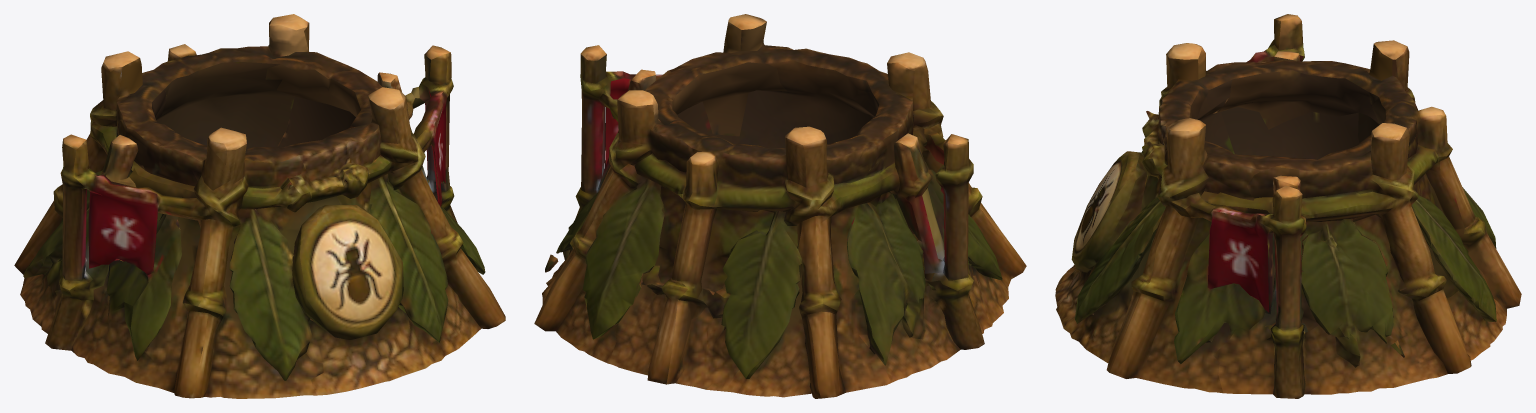
The model's file is Palisade.glb.
3 views of the same model, side by side, from view 1: azimuth 30°, elevation 25°; view 2: azimuth 150°, elevation 25°; view 3: azimuth 270°, elevation 25° (orthographic). The views are drawn at different scales.
Size of the model in its own units: 1.99 by 1.03 by 1.97.
Materials: 1 (1 with a texture image).
